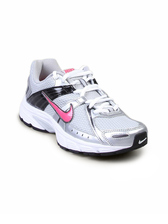shoes: (15, 54, 154, 158)
